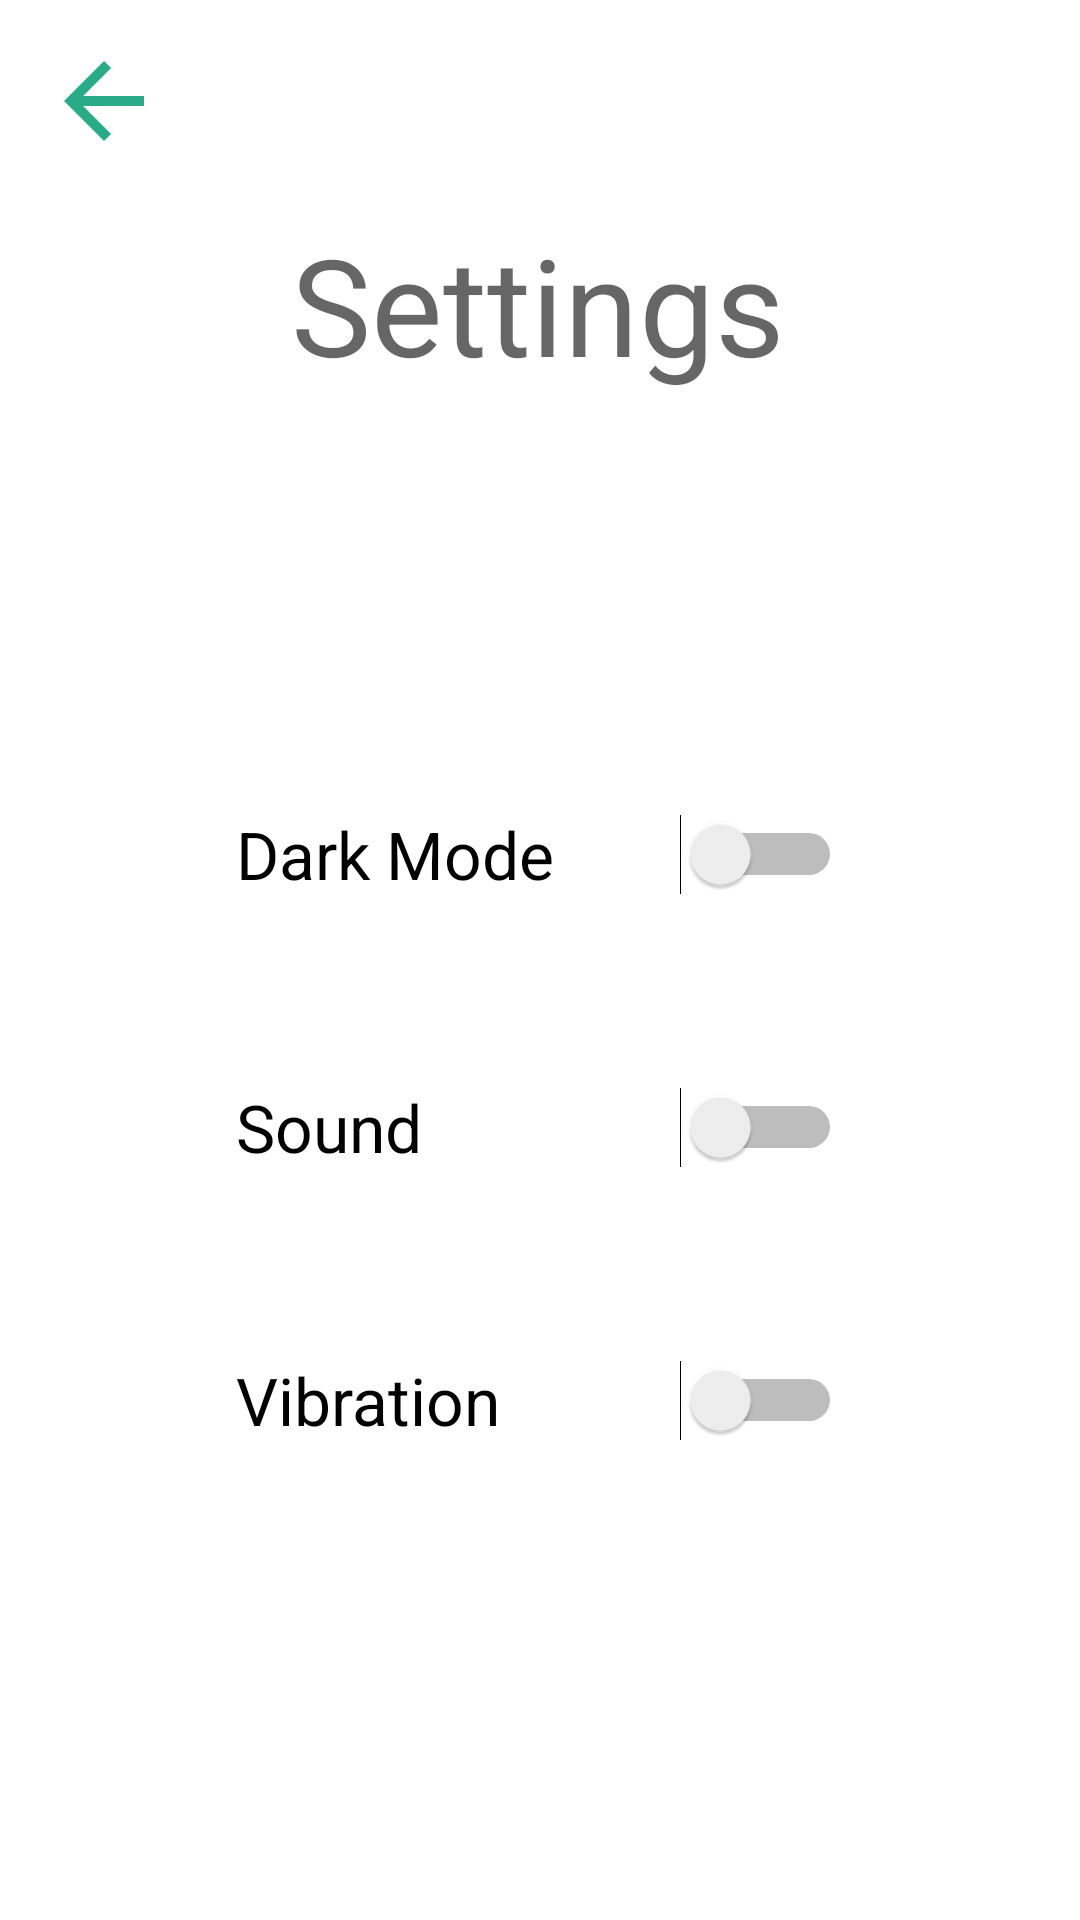

Where icons sit on this 1080px x 1920px app screen, as rect(x1, y1, x2, y2):
arrow back: rect(64, 61, 144, 141)
